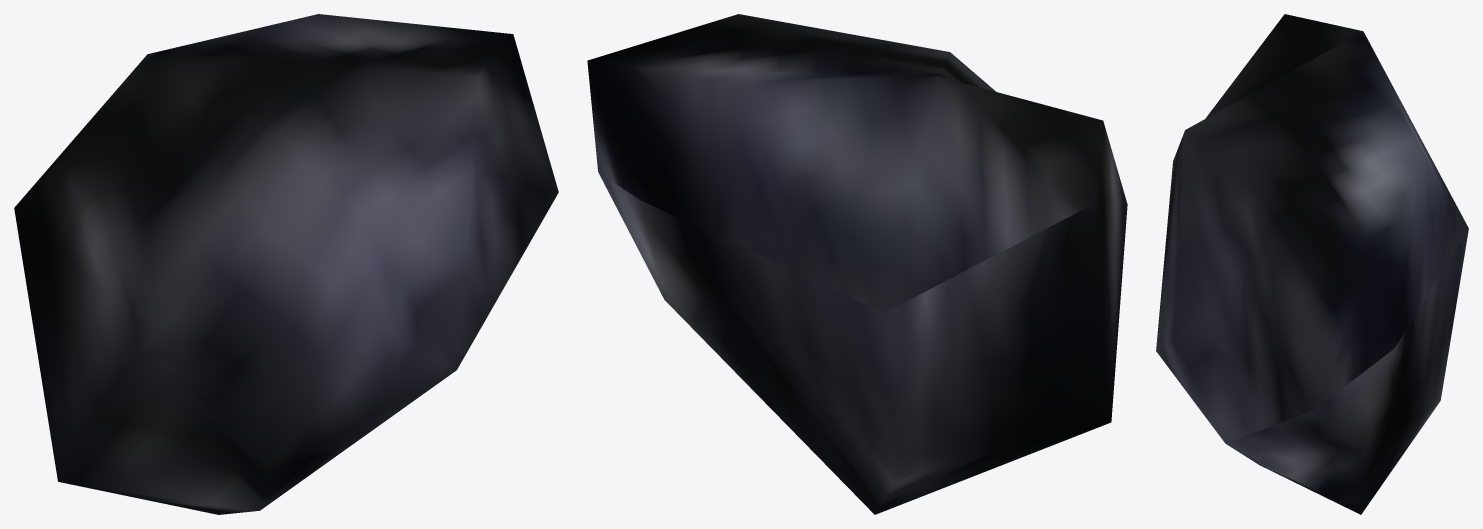
Rendered from nar_condra_7_arm_right.glb.
3 views of the same model, side by side, from view 1: azimuth 30°, elevation 25°; view 2: azimuth 150°, elevation 25°; view 3: azimuth 270°, elevation 25° (orthographic). The views are drawn at different scales.
Parts seen in each view (by area): view 1: model_nar_condra_7_arm_right; view 2: model_nar_condra_7_arm_right; view 3: model_nar_condra_7_arm_right.
Part boxes in pixels (left/top/right/bottom): model_nar_condra_7_arm_right: left=14, top=14, right=558, bottom=514; model_nar_condra_7_arm_right: left=587, top=14, right=1127, bottom=514; model_nar_condra_7_arm_right: left=1156, top=14, right=1468, bottom=514.
Size of the model in its own units: 0.2756 by 0.2355 by 0.1479.
1 material, 1 textured.
